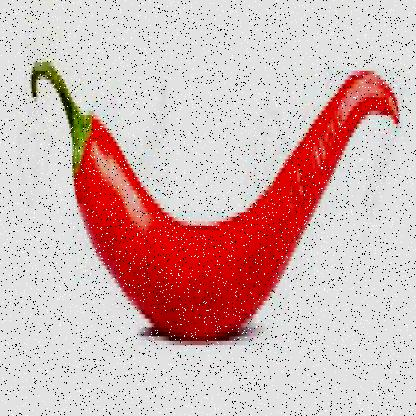chili: (24, 53, 400, 341)
